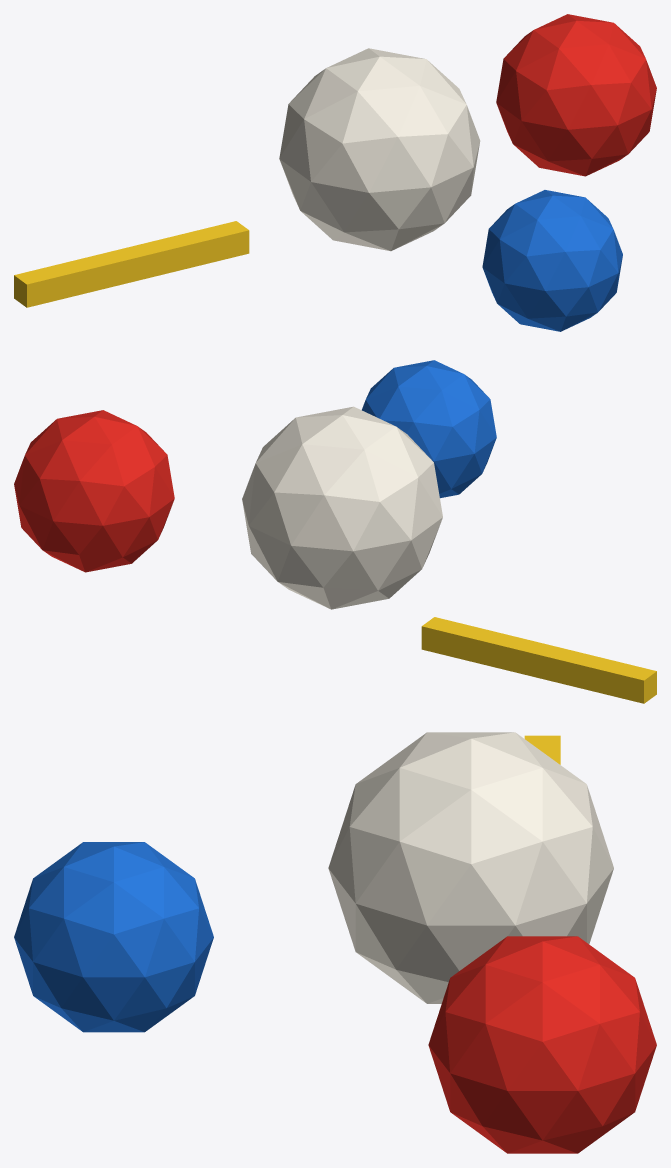
File: soccer_ball_toys.glb
The picture shows the model from 3 angles, top to bottom: view 1: azimuth 30°, elevation 25°; view 2: azimuth 150°, elevation 25°; view 3: azimuth 270°, elevation 25°; orthographic projection. The views are drawn at different scales.
Visible parts, largest first — view 1: soccer_ball_toys; view 2: soccer_ball_toys; view 3: soccer_ball_toys.
Part boxes in pixels (<box>): soccer_ball_toys: <box>14,14,656,331</box>; soccer_ball_toys: <box>14,360,656,703</box>; soccer_ball_toys: <box>14,732,656,1153</box>.
Bounding box in the file's own units: 1.4 × 0.4 × 0.9.
